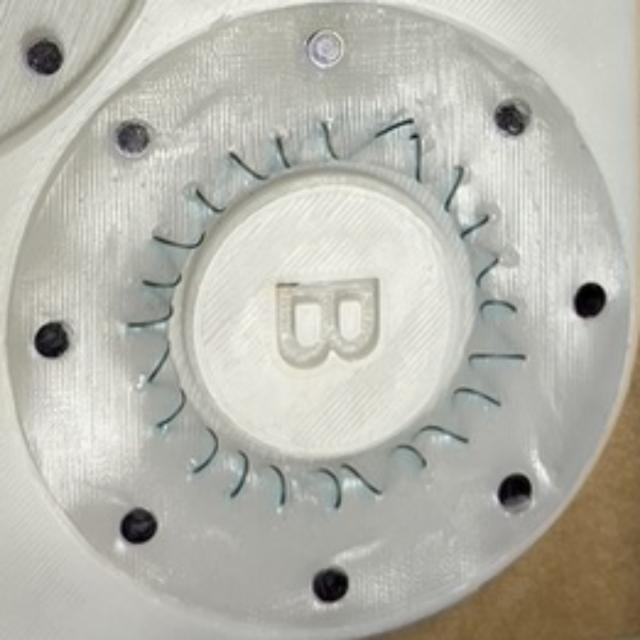suture: (192, 426, 220, 475), (340, 465, 383, 496), (155, 386, 186, 429), (229, 152, 270, 180), (229, 450, 251, 501), (126, 306, 175, 328), (146, 342, 170, 384), (415, 425, 470, 443), (321, 468, 343, 510), (320, 120, 340, 163), (445, 164, 463, 211), (269, 463, 287, 509), (452, 389, 500, 406), (375, 118, 414, 138), (396, 445, 428, 468), (153, 234, 205, 248), (195, 188, 224, 212), (476, 259, 499, 287), (142, 273, 182, 289), (461, 215, 488, 238), (478, 299, 519, 314), (410, 134, 421, 182), (469, 354, 527, 363), (276, 136, 289, 168)
